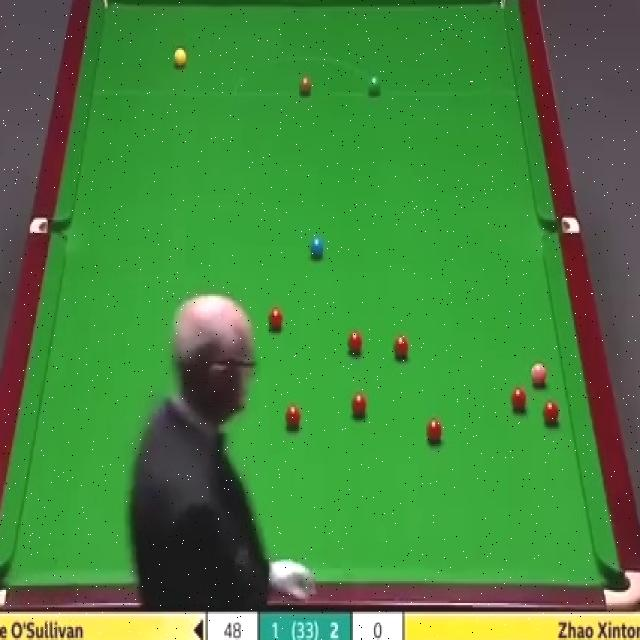blue-ball: (310, 236, 324, 260)
brown-ball: (299, 77, 312, 96)
green-ball: (368, 74, 381, 96)
pink-ball: (531, 360, 549, 388)
red-ball: (424, 417, 443, 444), (542, 397, 560, 425), (346, 330, 363, 356), (394, 332, 410, 359), (352, 392, 368, 419), (284, 403, 302, 426), (510, 388, 528, 410), (269, 305, 283, 329)
yellow-ball: (173, 48, 188, 70)
